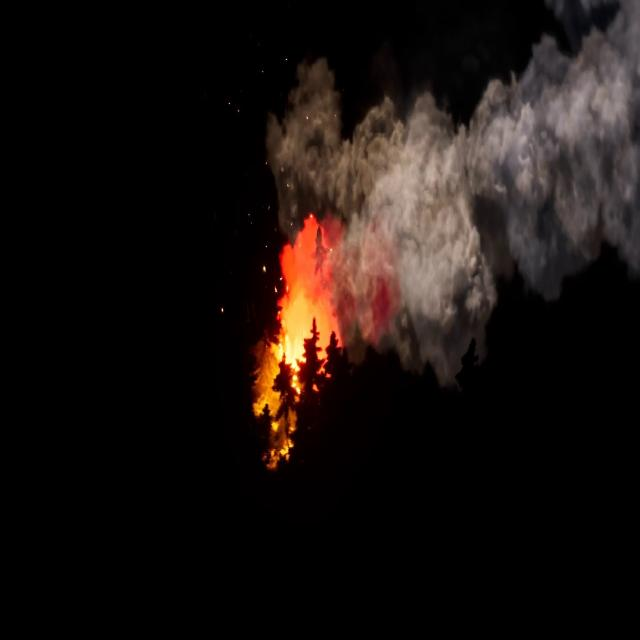fire: (253, 209, 342, 472)
smoke: (265, 0, 639, 387)
